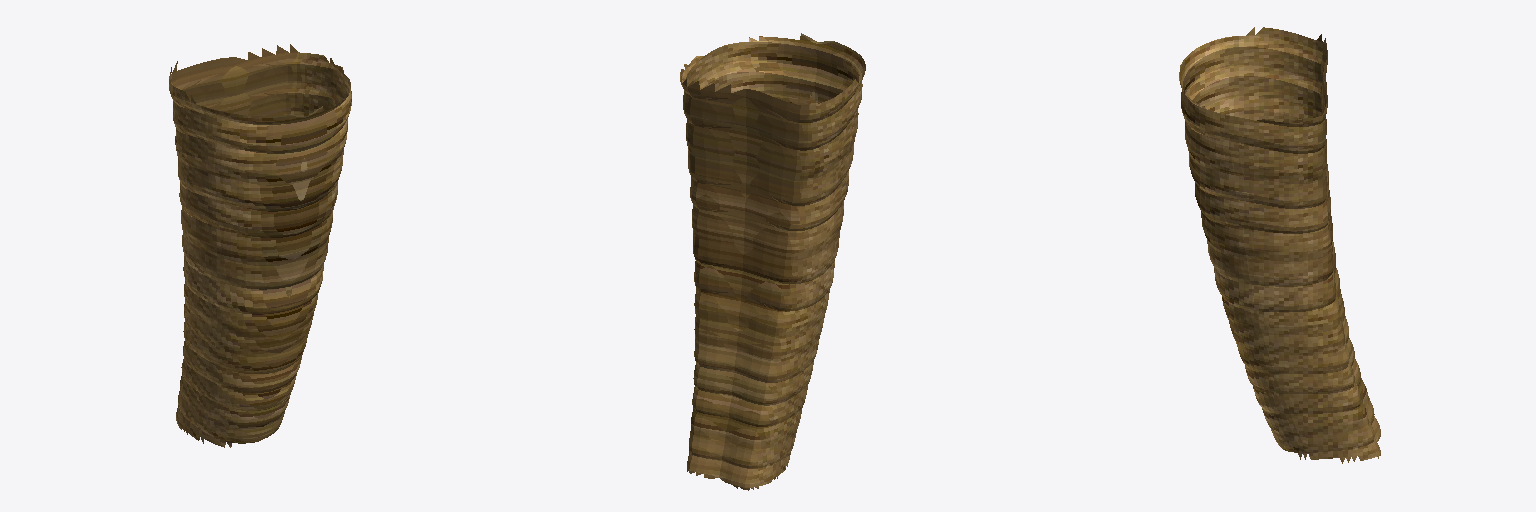
The picture shows the model from 3 angles: view 1: azimuth 30°, elevation 25°; view 2: azimuth 150°, elevation 25°; view 3: azimuth 270°, elevation 25°; orthographic projection.
Parts seen in each view (by area): view 1: MainEleM.006; view 2: MainEleM.006; view 3: MainEleM.006.
Boxes of the visible parts, <box> form: MainEleM.006: <box>169,44,351,447</box>; MainEleM.006: <box>680,33,865,490</box>; MainEleM.006: <box>1179,27,1380,463</box>.
Bounding box in the file's own units: 0.3615 × 0.8357 × 0.3977.
Materials: 1 (1 with a texture image).